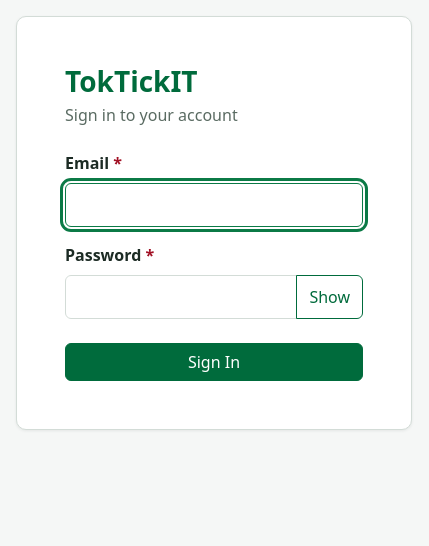
Test: UI-03 — Login failure feedback (AC-05, AC-06, AC-07, AC-59) › shows the generic message, clears the password, keeps the email, and focuses Password on 401
In the field labelled "Email *": (214, 205) [65,183,363,227], type "pat@example.com"
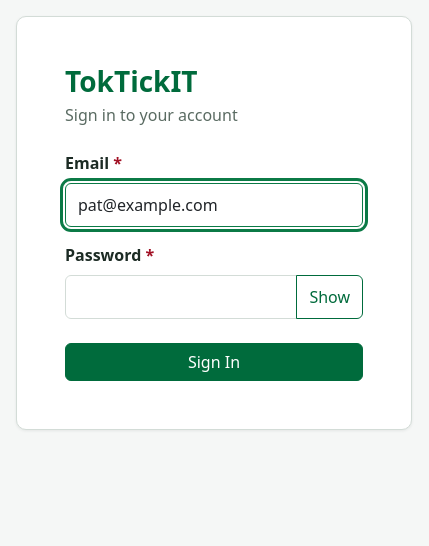
In the password field labelled "Password *": (181, 297) [65,275,297,319], type "Wrong-Pass1!"
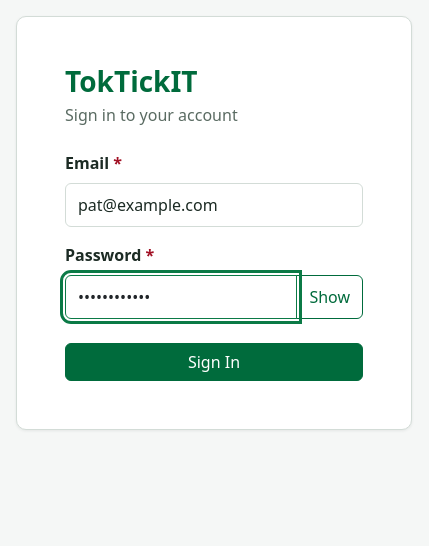
Click the button "Sign In": (214, 362) [65,343,363,381]
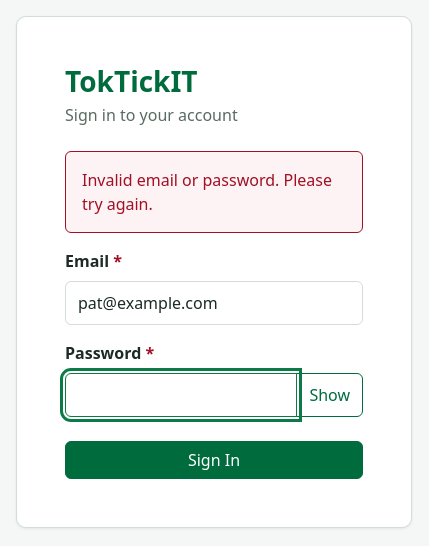
Now the message reads "Invalid email or password. Please try again.", box [82,169,332,215]
Now the password field labelled "Password *" is empty, box [65,373,297,417]
